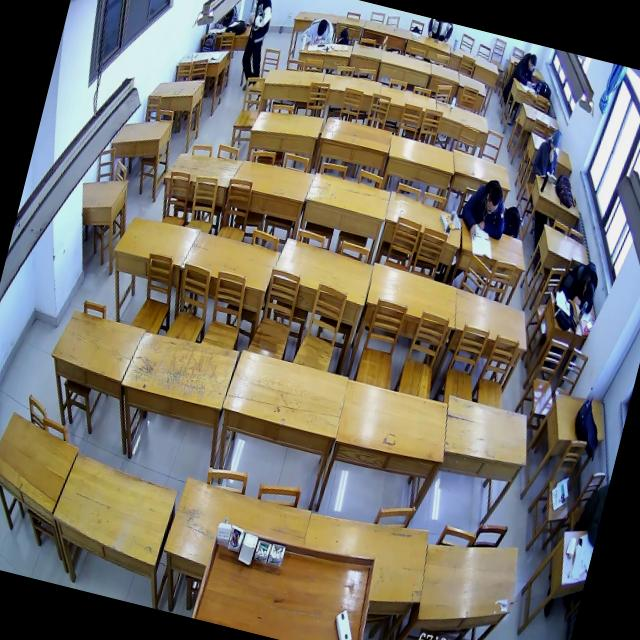bow: (456, 173, 514, 246), (558, 256, 602, 314), (299, 13, 337, 50)
down: (482, 182, 503, 216), (548, 130, 562, 154), (316, 18, 330, 38), (526, 52, 538, 72)
sit: (231, 0, 282, 89), (530, 126, 565, 180), (511, 50, 543, 88)
